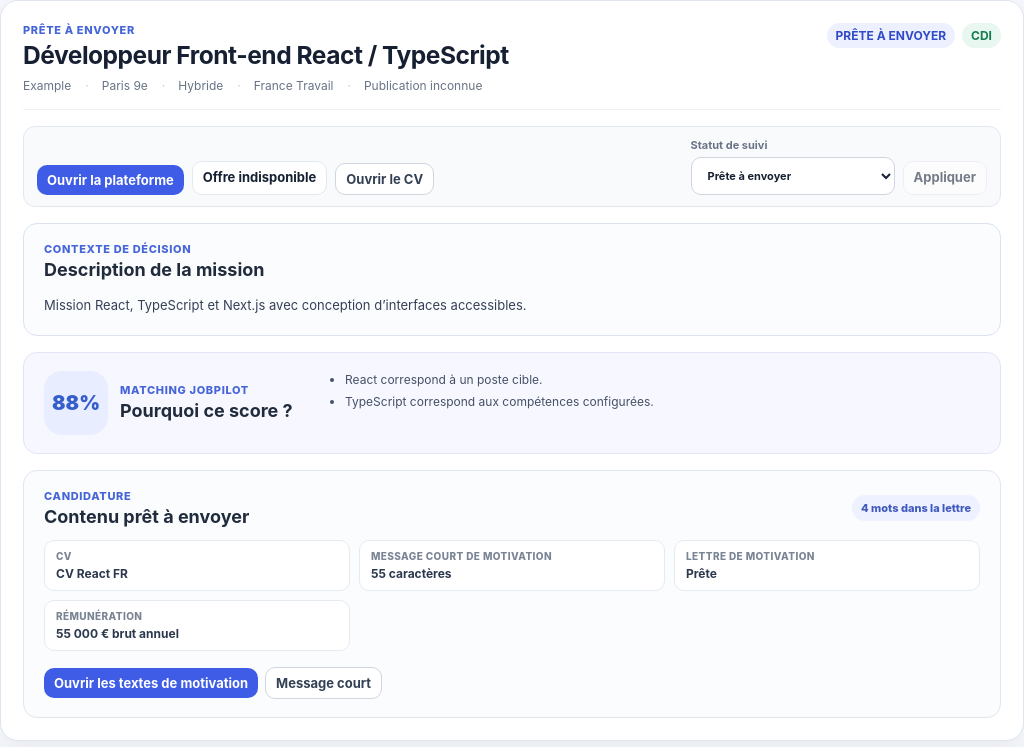
ReviewQueueApplicationCard › keeps a selected status local until Apply is clicked
Check: the text "PRÊTE À ENVOYER" is shown, box [827,23,955,48]
Step 1. Select "Entretien" in the dropdown named "Statut de suivi dans JobPilot" → (792, 176), box [690,156,894,194]
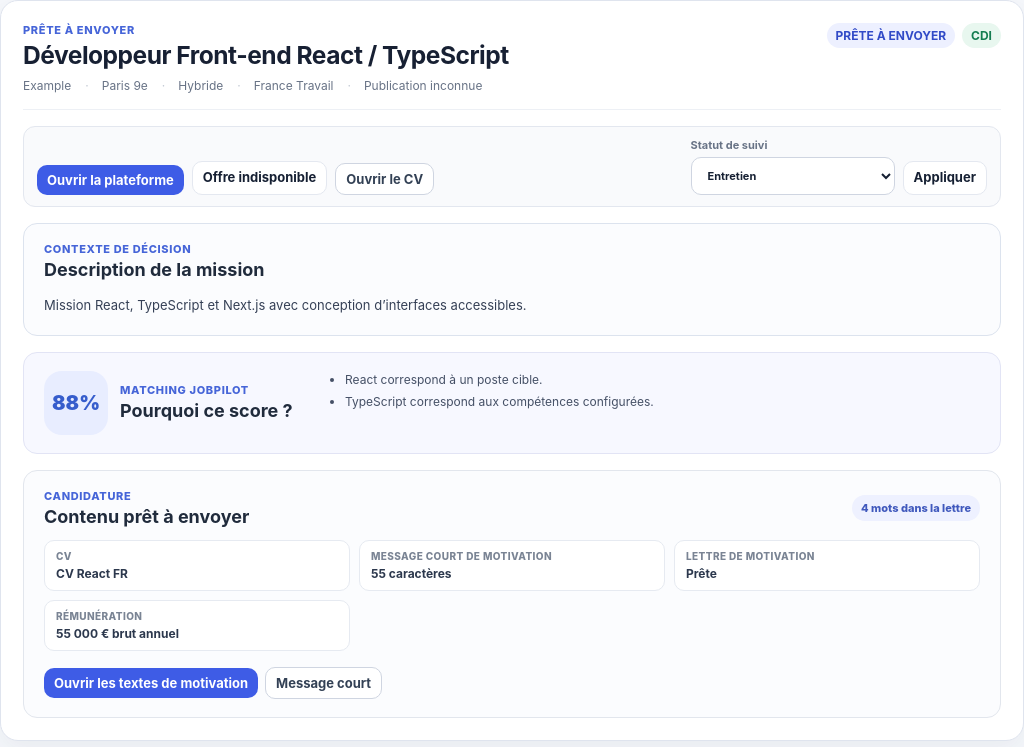
Check: the text "PRÊTE À ENVOYER" is shown, box [827,23,955,48]
Check: the button "Appliquer" is enabled
Step 2. Click the button "Appliquer" → (945, 178), box [902,160,987,194]
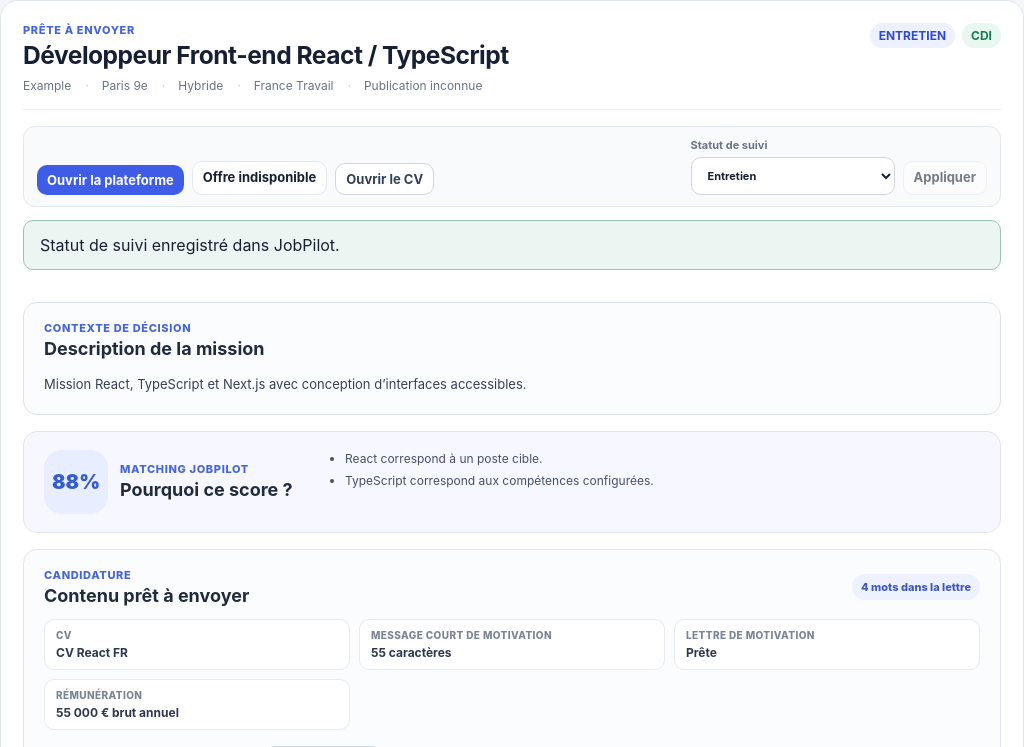
Check: the message reads "Statut de suivi enregistré dans JobPilot.", box [40,234,340,254]
